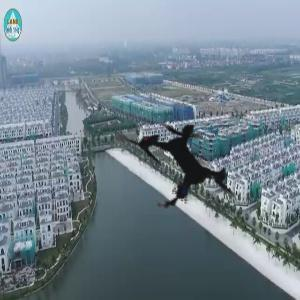drone: (81, 64, 280, 263)
